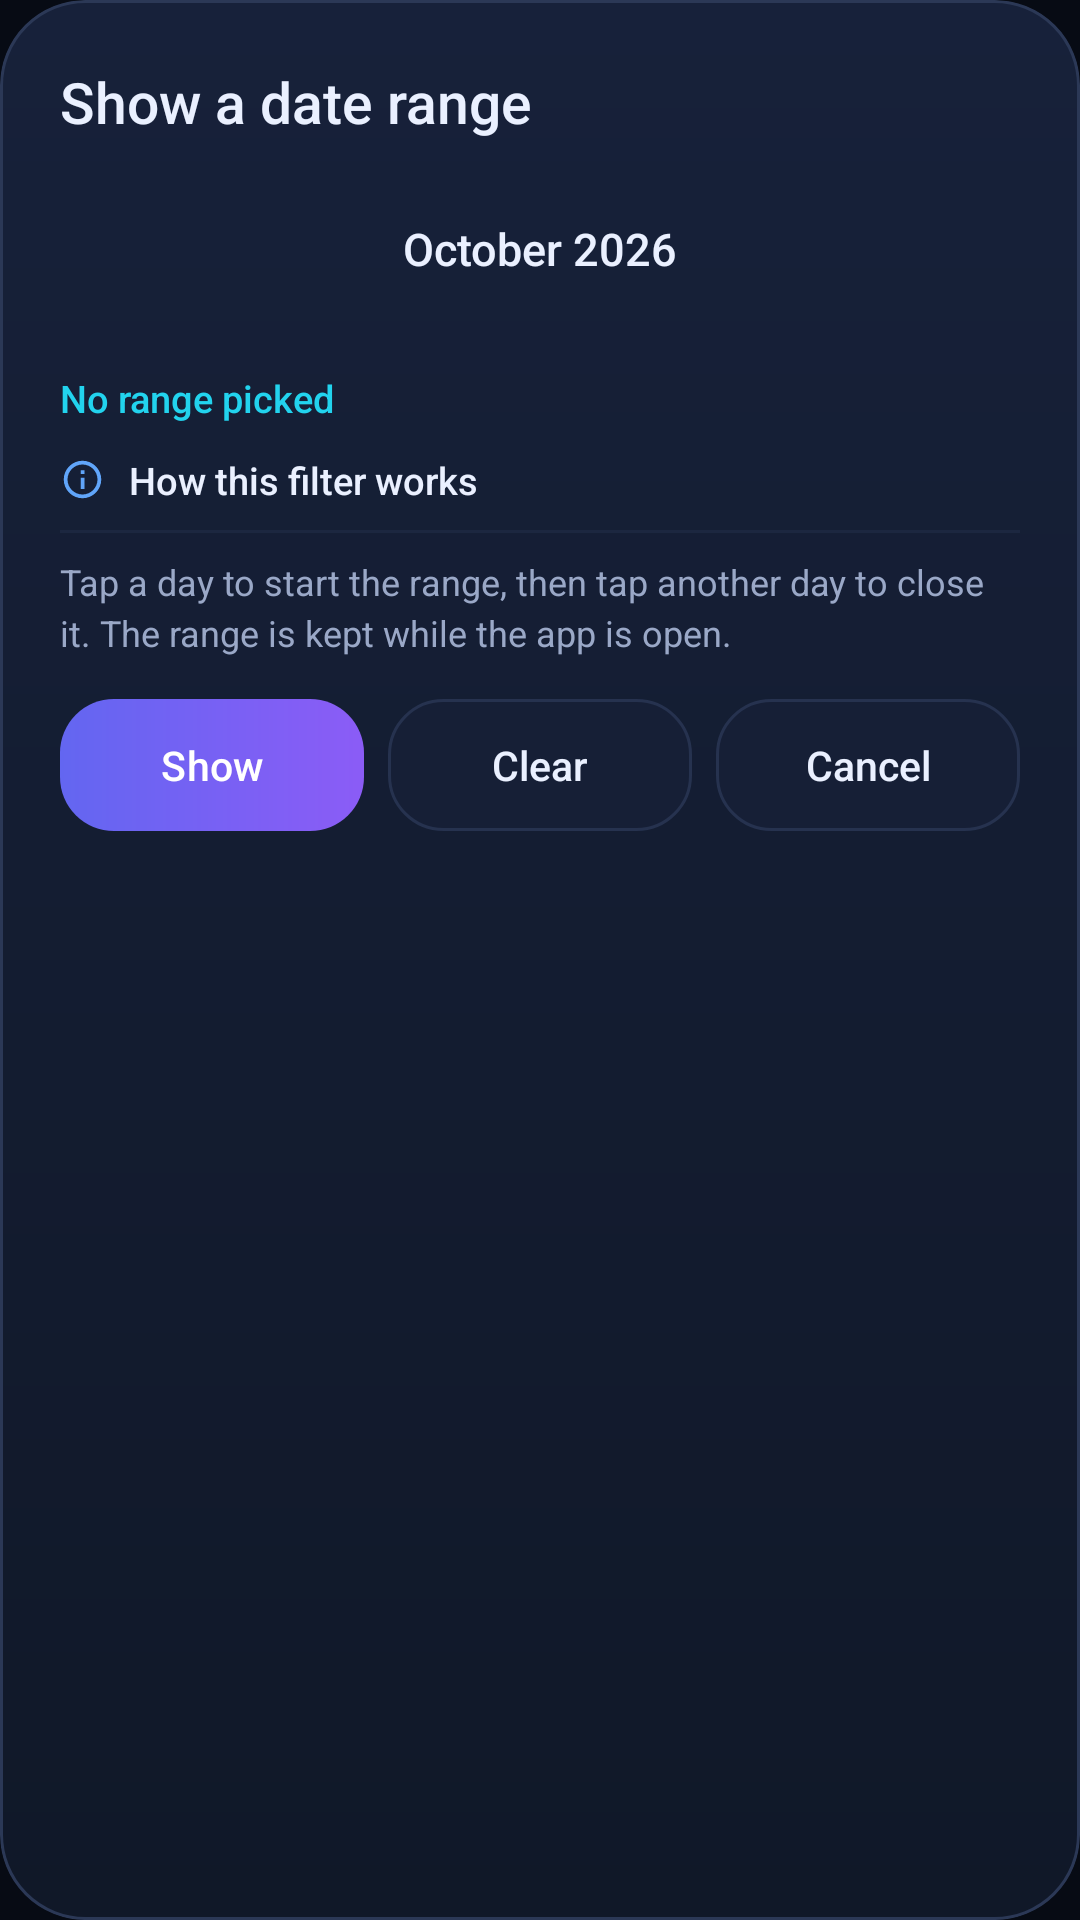

Icon click points for this 1080×1920 phone screenshot, format [x,y]:
info: [82,479]
